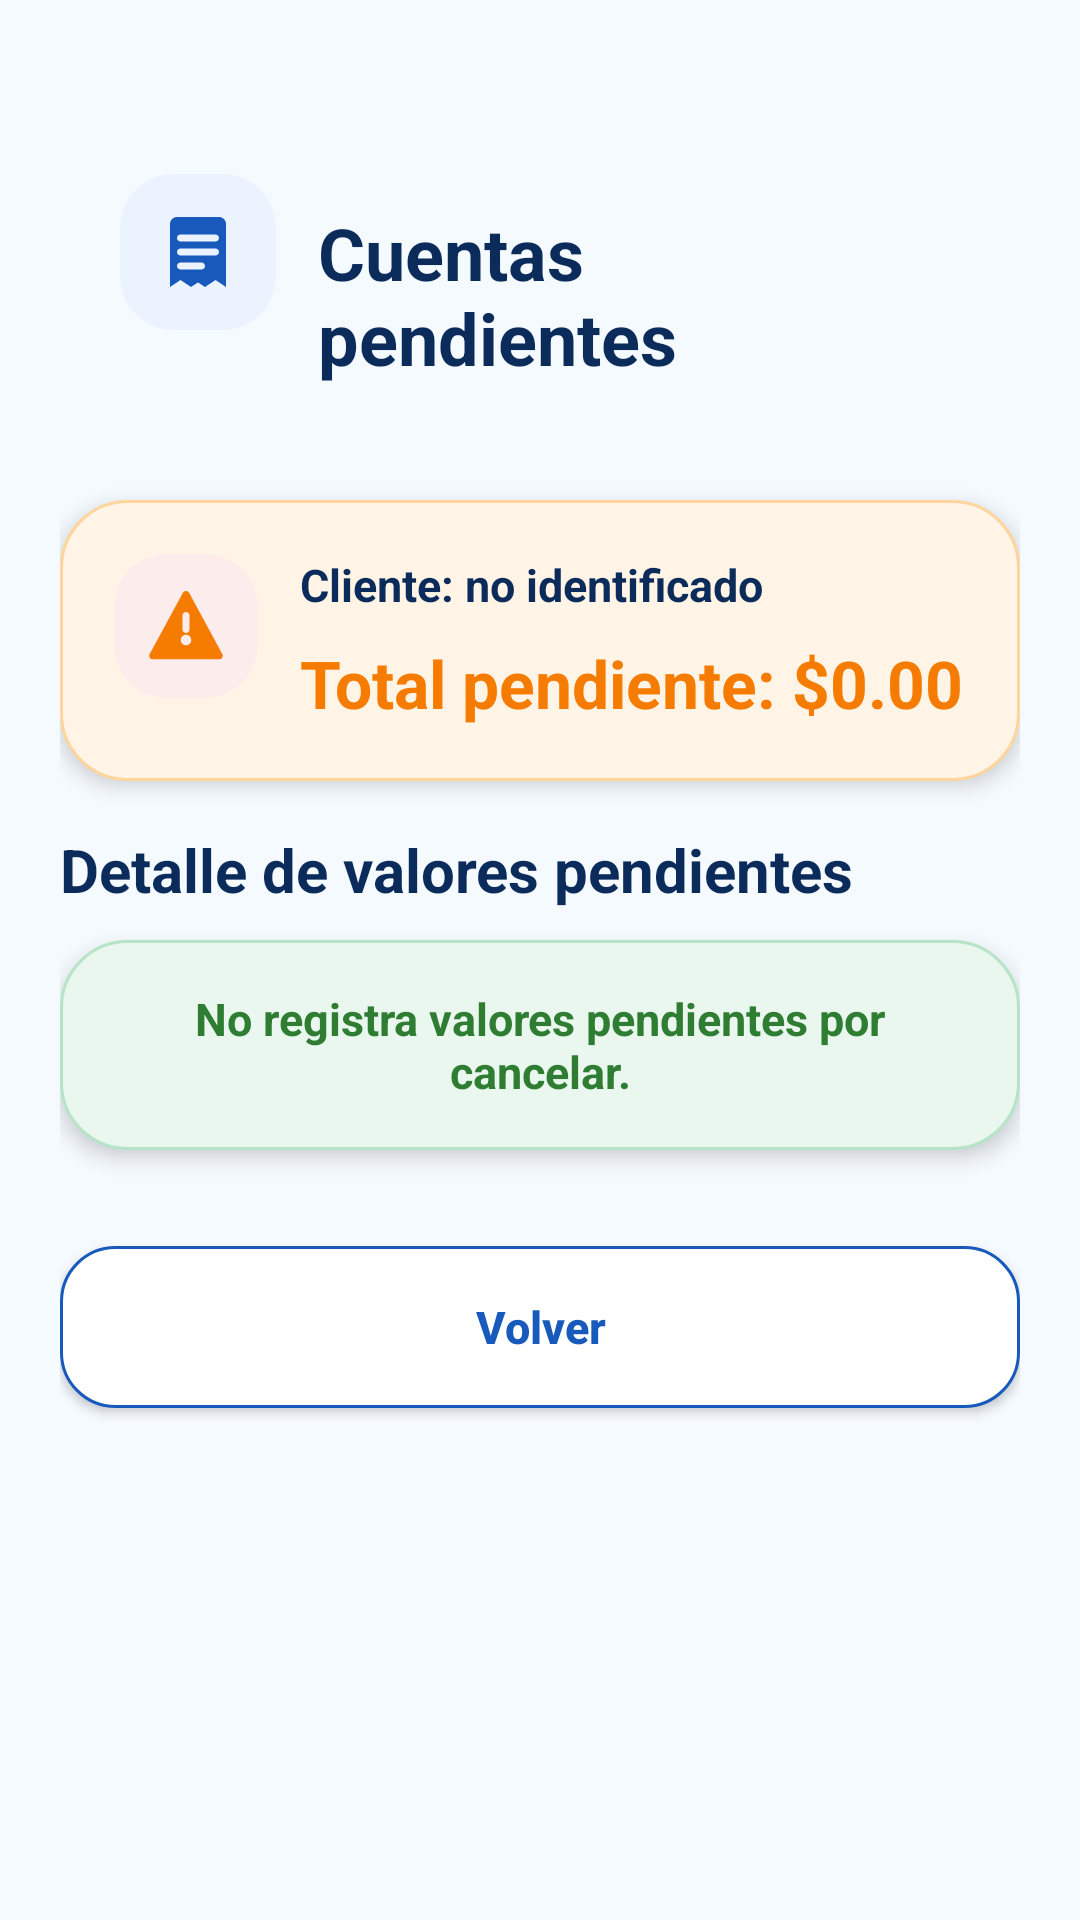

Point at icon controls on the screen. Image size 1080 × 1920, points as point (x, y).
receipt moderno: point (198, 252)
warning moderno: point (186, 625)
